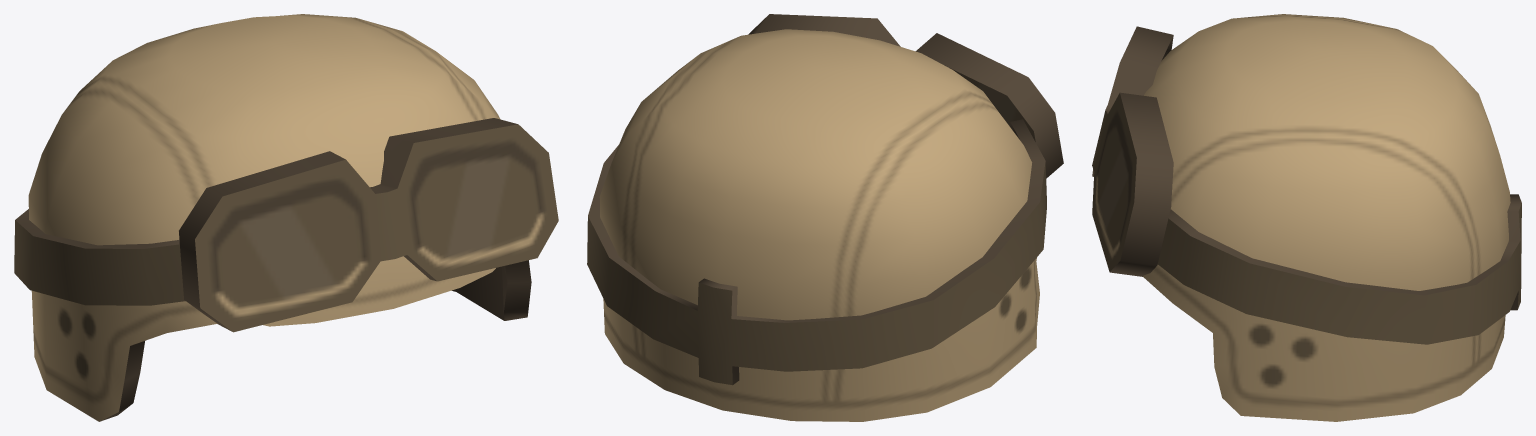
The model's file is top_acc_03.FBX.
The picture shows the model from 3 angles, left to right: view 1: azimuth 30°, elevation 25°; view 2: azimuth 150°, elevation 25°; view 3: azimuth 270°, elevation 25°; orthographic projection. The views are drawn at different scales.
Visible parts, largest first — view 1: top_acc_03; view 2: top_acc_03; view 3: top_acc_03.
Part boxes in pixels (bbox=[...]): top_acc_03: bbox=[14, 14, 558, 421]; top_acc_03: bbox=[587, 14, 1063, 421]; top_acc_03: bbox=[1092, 14, 1521, 421].
Size of the model in its own units: 33.85 by 22.57 by 30.71.
